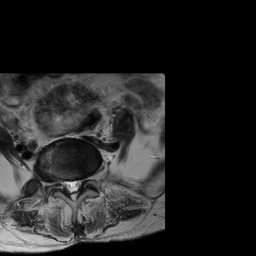CCS_normal: (69, 173, 76, 205)
LFS_severe_stenosis: (82, 170, 88, 189)
LLS_normal: (76, 172, 82, 195)
RFS_severe_stenosis: (55, 173, 62, 191)
RLS_normal: (62, 173, 69, 193)
